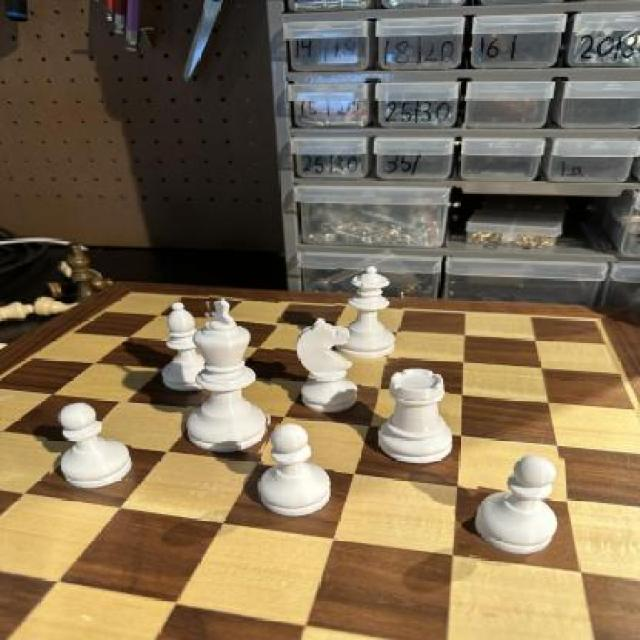black-rook: (160, 294, 212, 395)
white-bishop: (186, 294, 276, 452)
white-king: (291, 312, 363, 421)
white-knight: (472, 454, 570, 561), (45, 403, 133, 491), (257, 423, 337, 519)
white-pawn: (332, 263, 404, 362)
white-queen: (377, 363, 453, 469)
